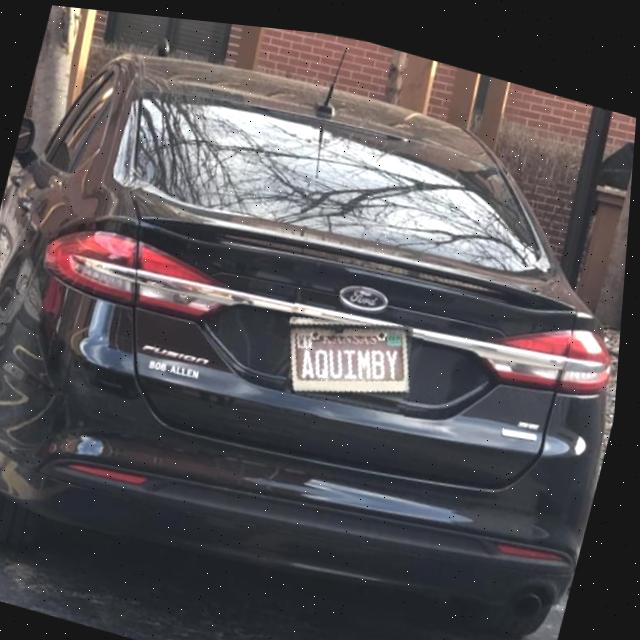LicensePlate: (294, 318, 415, 385)
